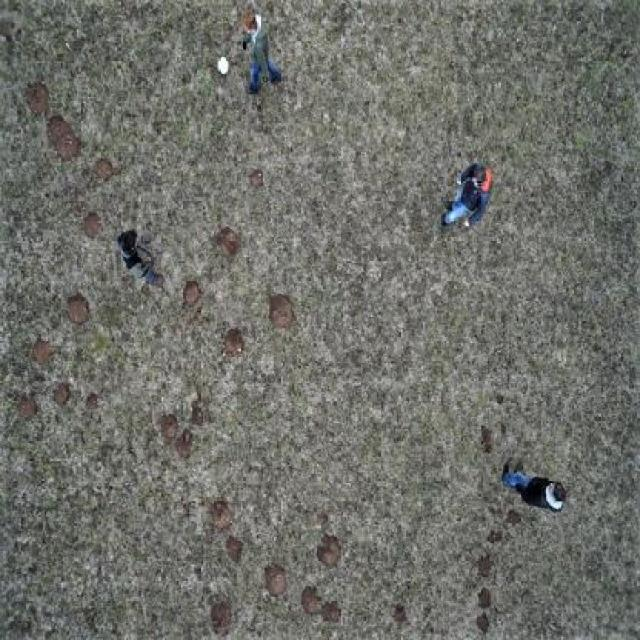Person: (226, 1, 286, 98), (433, 157, 495, 235), (498, 452, 568, 518), (111, 221, 167, 294)
